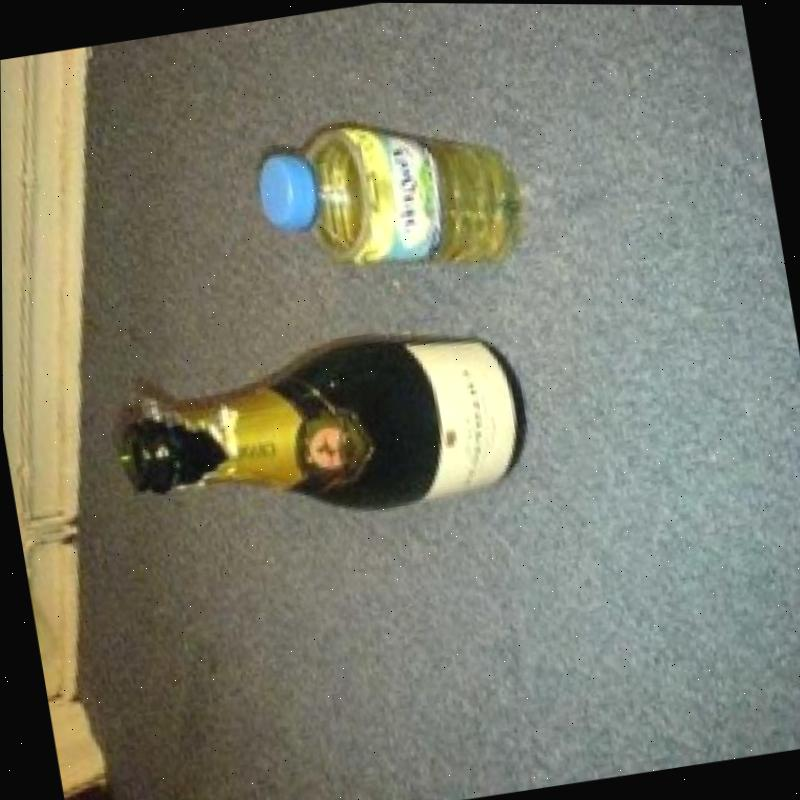botella: (250, 98, 523, 297)
